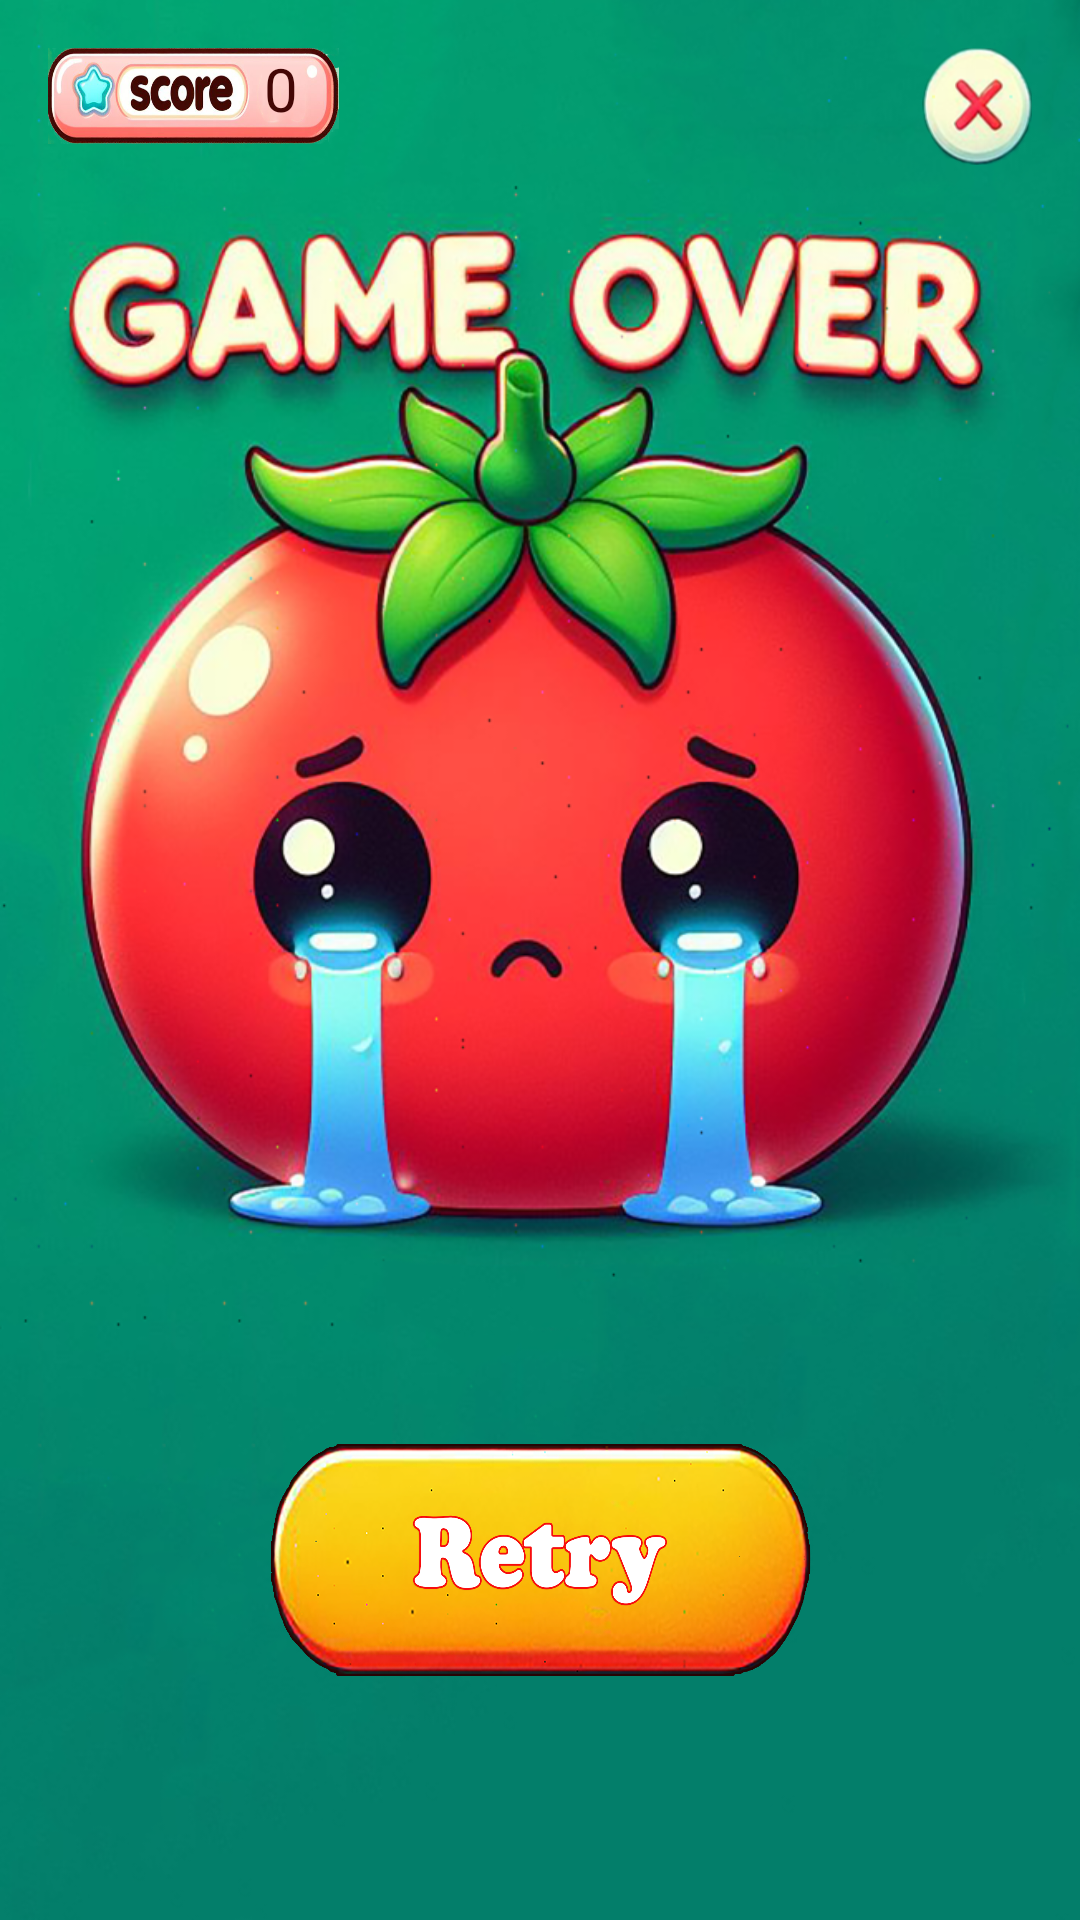

Locate icon controls on the screen. Image size 1080px x 1920px, boxes as (left=x1, top=y1, right=x2, bottom=y2).
exit: (left=923, top=48, right=1032, bottom=165)
